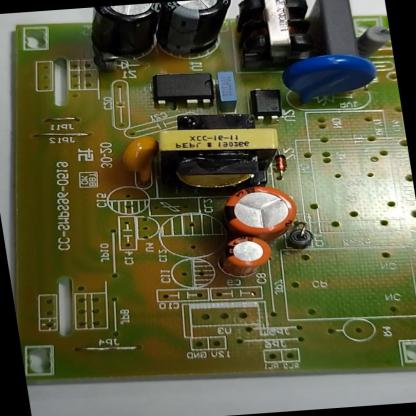Cap1: (211, 179, 306, 246)
Cap2: (206, 230, 286, 285)
Cap3: (154, 0, 241, 66)
Cap4: (82, 2, 178, 72)
MOSFET: (140, 66, 223, 115)
Mov: (272, 49, 391, 117)
Resistor: (347, 23, 393, 61)
Transformer: (134, 104, 299, 208), (222, 0, 340, 77)
